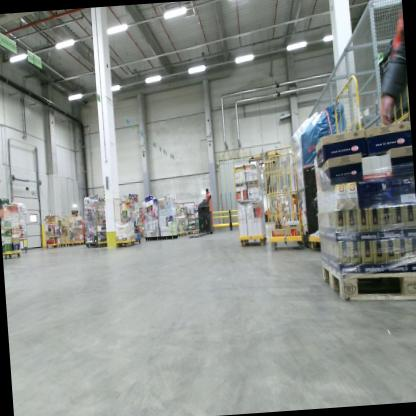pallet: (321, 252, 416, 311)
pallet_truck: (184, 193, 217, 240), (269, 193, 303, 237), (264, 204, 272, 224)
